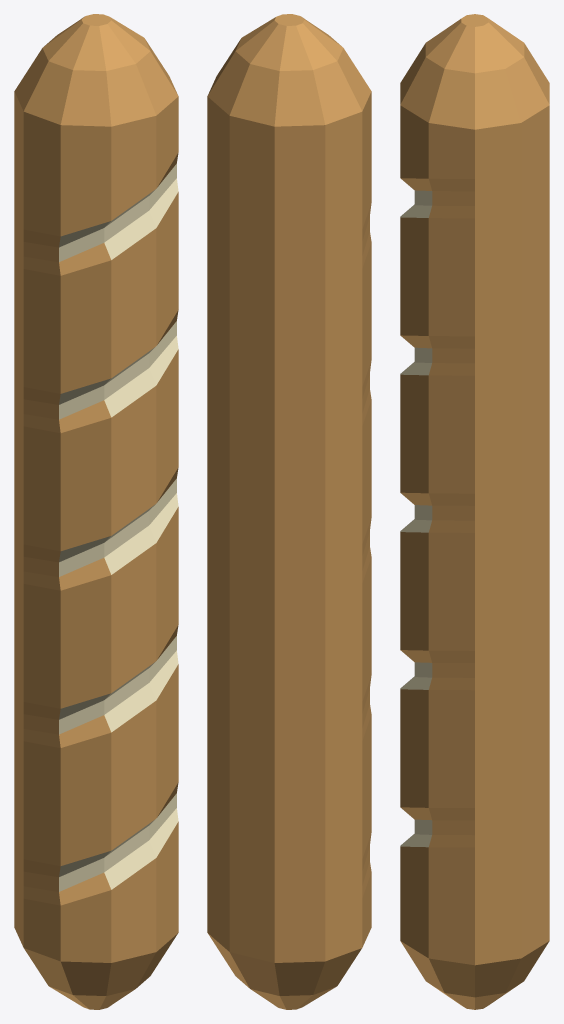
The model's file is baguette.glb.
The picture shows the model from 3 angles, left to right: view 1: azimuth 30°, elevation 25°; view 2: azimuth 150°, elevation 25°; view 3: azimuth 270°, elevation 25°; orthographic projection.
Visible parts, largest first — view 1: baguette; view 2: baguette; view 3: baguette.
Boxes of the visible parts, x1,y1,x2,y2 form: baguette: [14, 14, 178, 1009]; baguette: [207, 14, 371, 1009]; baguette: [400, 14, 549, 1009].
Bounding box in the file's own units: 0.062 × 0.4 × 0.0552.
